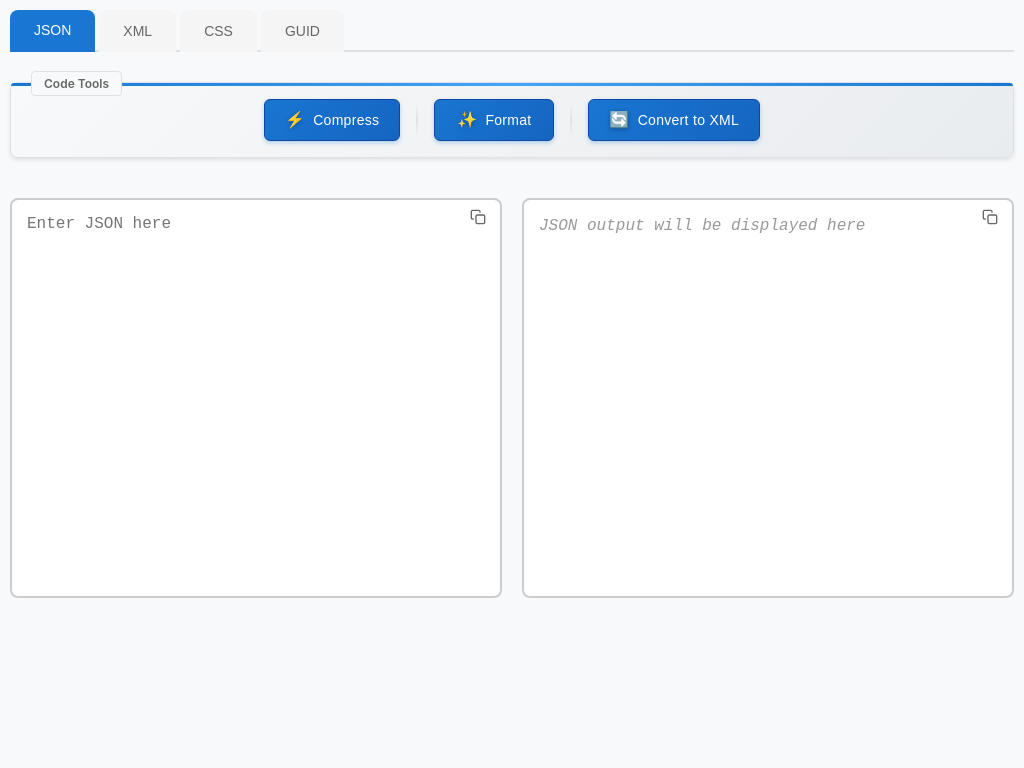
Test: switches to CSS tab
The width and height of the screenshot is (1024, 768).
Click the button "CSS". click: (218, 31)
box: [180,10,257,52]
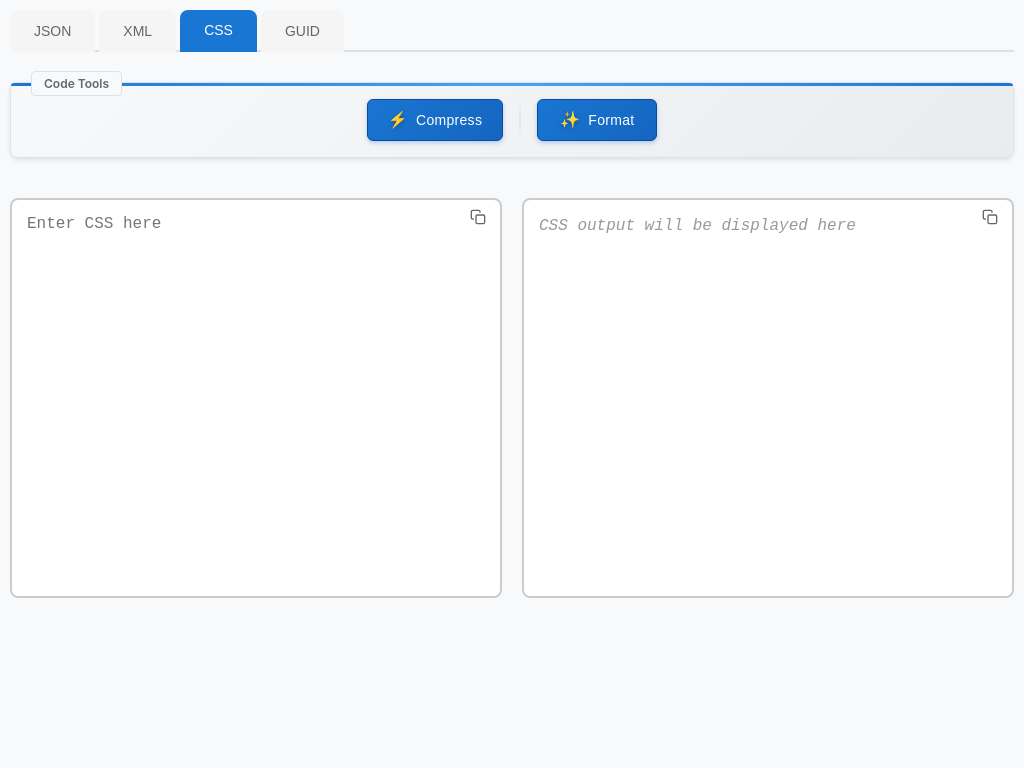
Check: the text box with placeholder "Enter CSS here" is shown, box [10,198,502,598]
Check: the text "CSS output will be displayed here" is shown, box [539,217,856,235]
